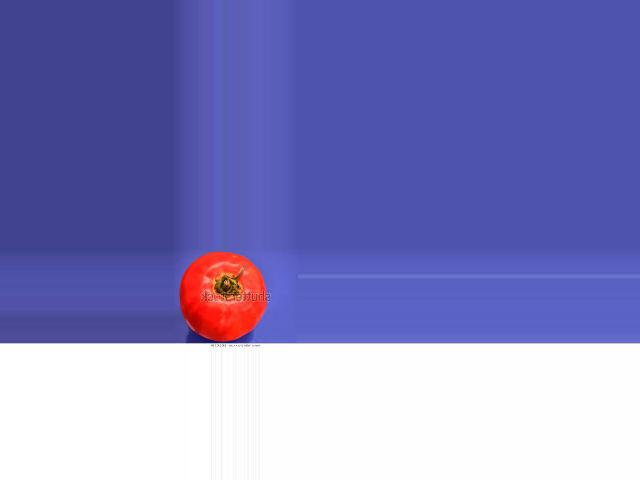tomato: (178, 252, 266, 340)
